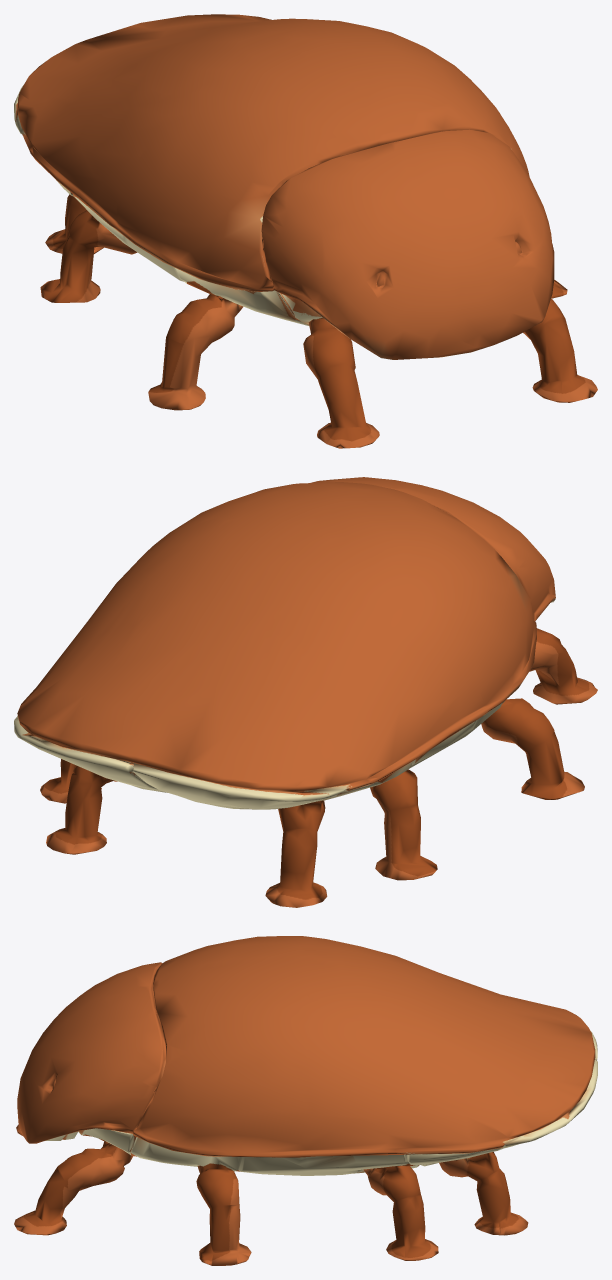
Rendered from skitter-lod.glb.
3 renders of one model, top to bottom at view 1: azimuth 30°, elevation 25°; view 2: azimuth 150°, elevation 25°; view 3: azimuth 270°, elevation 25°, orthographic. The views are drawn at different scales.
Parts seen in each view (by area): view 1: seedpod skitter tripo lod; view 2: seedpod skitter tripo lod; view 3: seedpod skitter tripo lod.
Boxes of the visible parts, x1,y1,x2,y2 form: seedpod skitter tripo lod: (14,14,597,448); seedpod skitter tripo lod: (14,477,597,907); seedpod skitter tripo lod: (14,936,597,1265).
Bounding box in the file's own units: 0.935 × 0.5496 × 1.31.
1 material, 1 textured.
